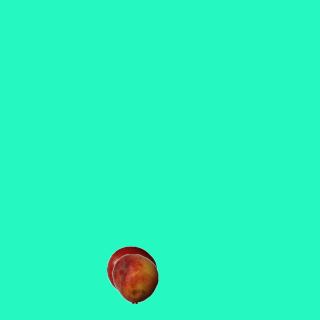Apple Braeburn: (106, 245, 156, 295)
Peach: (110, 253, 160, 303)
